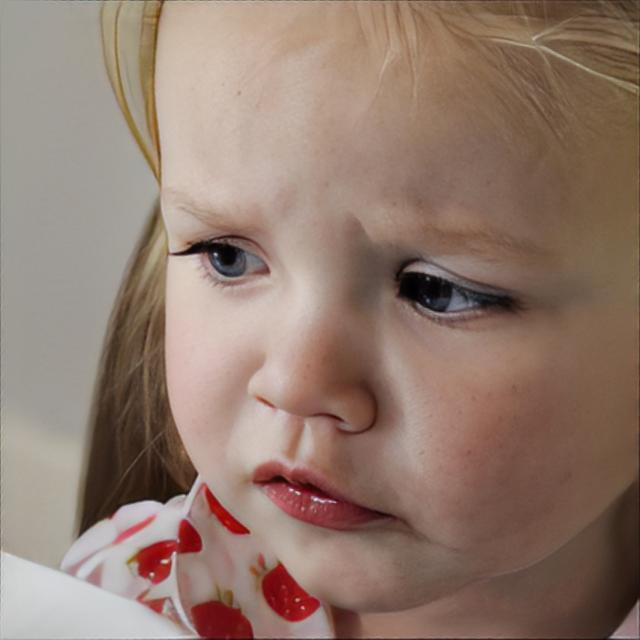sad: (152, 0, 640, 614)
